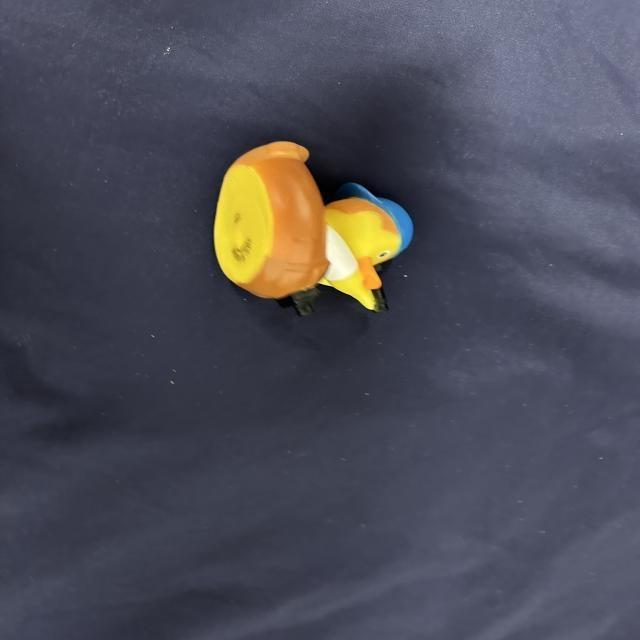rubber-duck: (213, 141, 411, 309)
